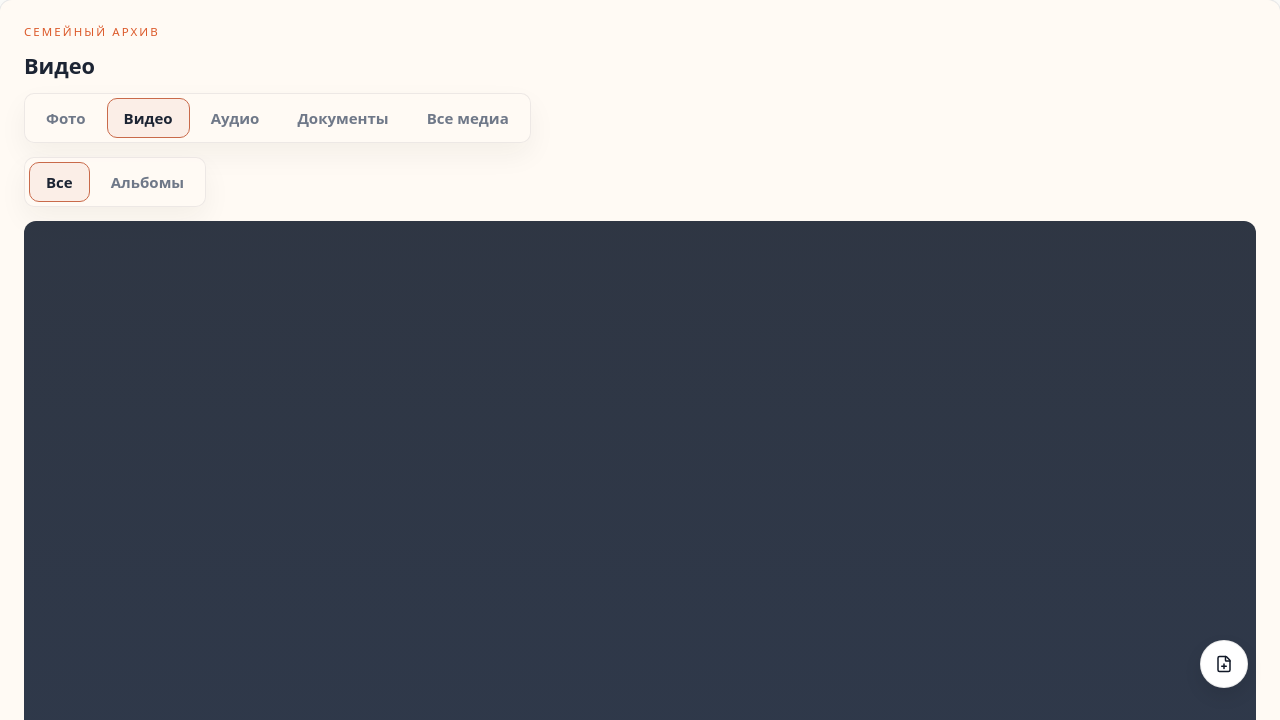
Test: tree media archive client › shows a video-only count label on album cards without the generic materials wording
Step 1. Click the tab "Альбомы" → (147, 182), box [94,162,201,202]
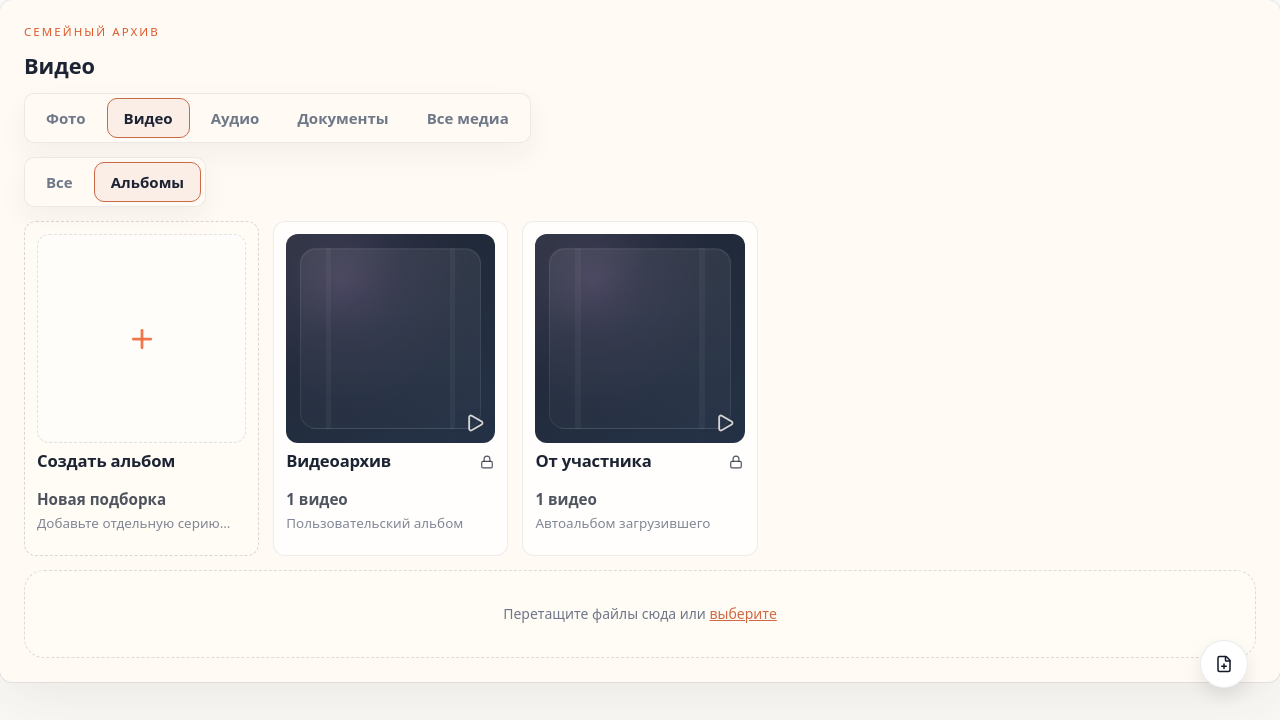
Expected: the button "Видеоархив 1 видео Пользовательский альбом" does not show "материал", [273,221,508,556]
Now the button "Видеоархив 1 видео Пользовательский альбом" is shown, box [273,221,508,556]
